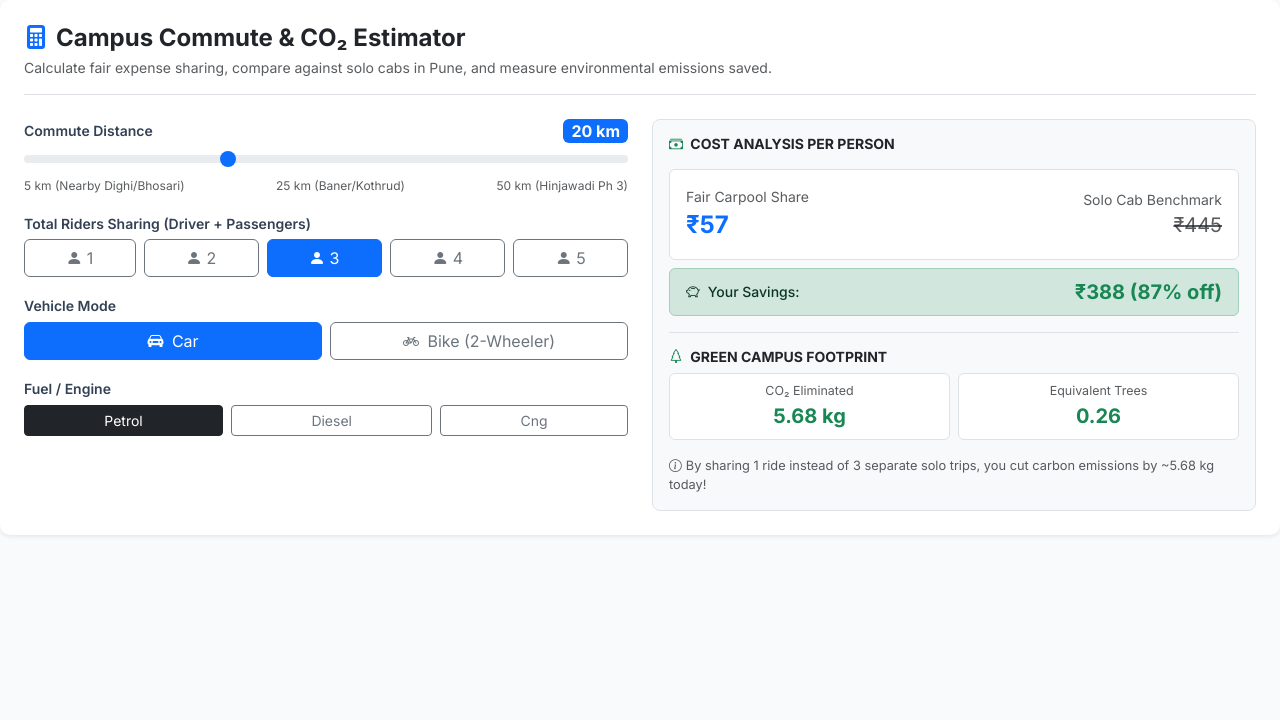
Scenario: Frontend Form Validation & Calculator Component Tests › Fare & CO2 Calculator dynamically updates savings when distance changes
Expected: the text "20 km" is shown, left=564, top=119, right=628, bottom=143
Expected: the text "Fair Carpool Share" is shown, left=686, top=186, right=809, bottom=207
// Adjust distance slider to 30 km
Set the slider named "Commute distance in kilometers" to "30" at (359, 159), box left=24, top=147, right=628, bottom=171
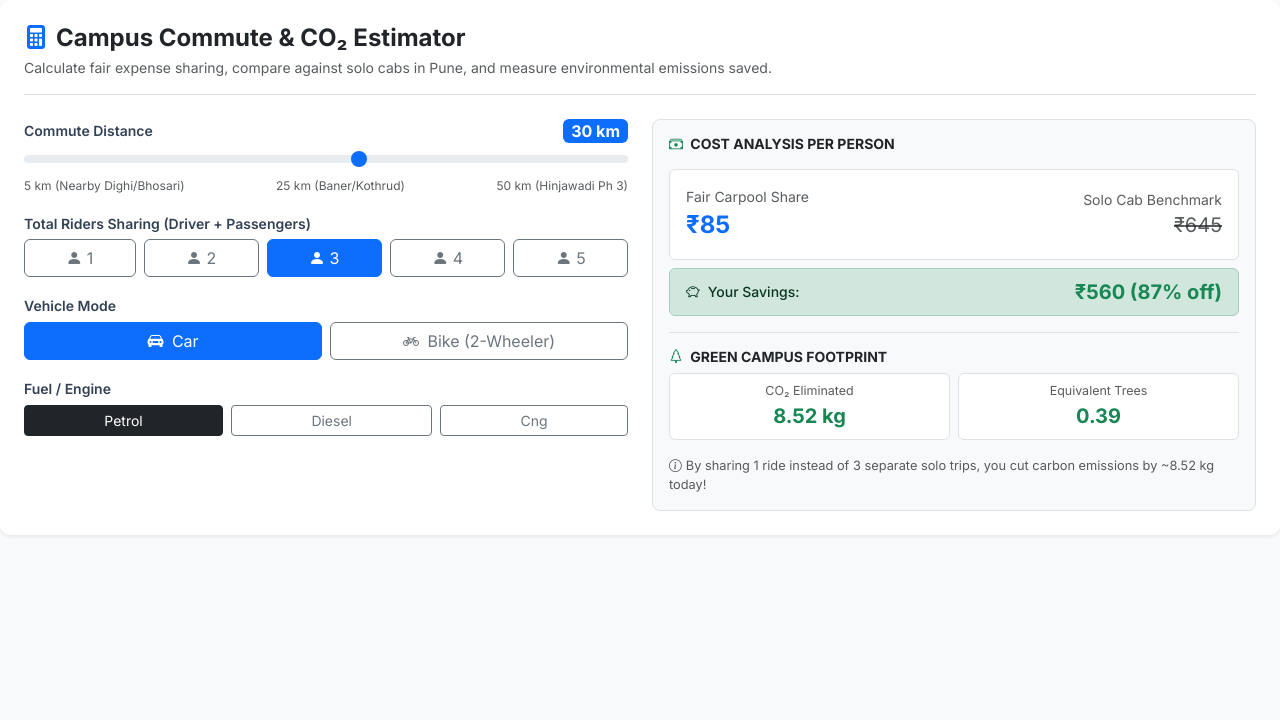
Expected: the text "30 km" is shown, left=563, top=119, right=628, bottom=143
